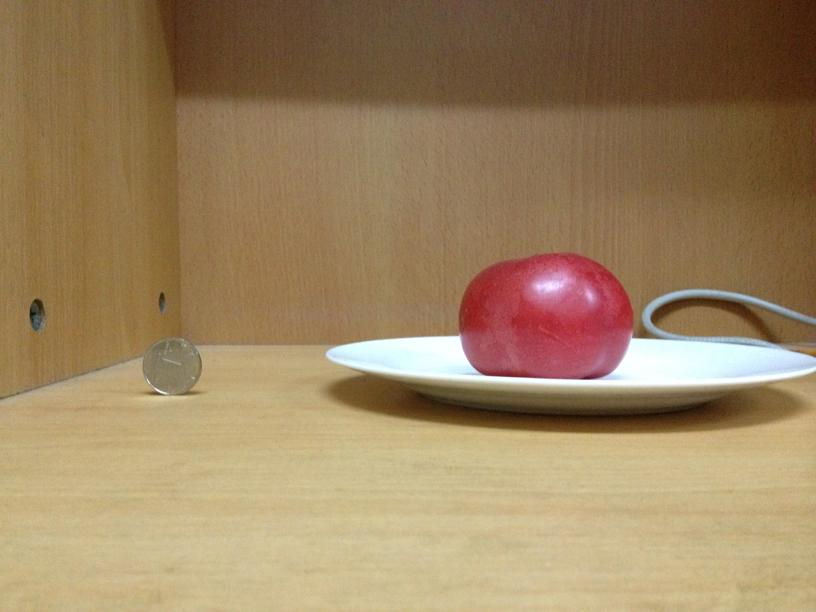coin: (141, 334, 205, 395)
tomato: (452, 251, 632, 383)
